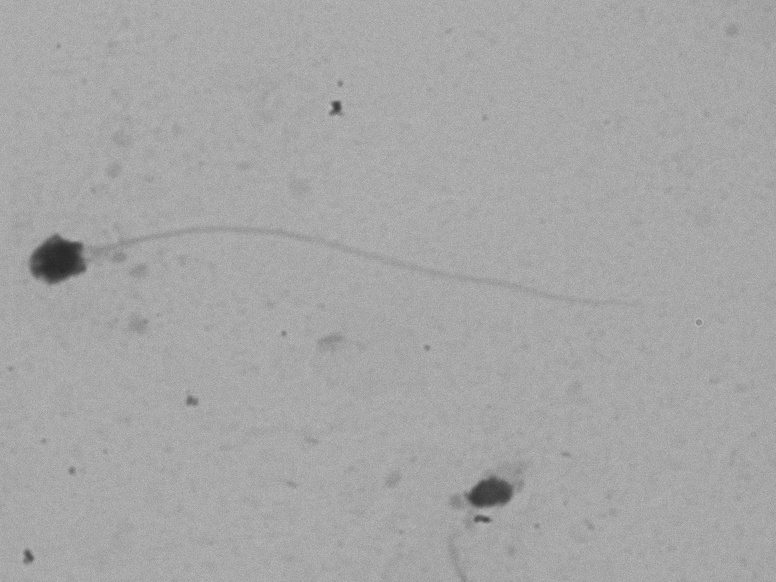Abnormal: (12, 185, 679, 388)
